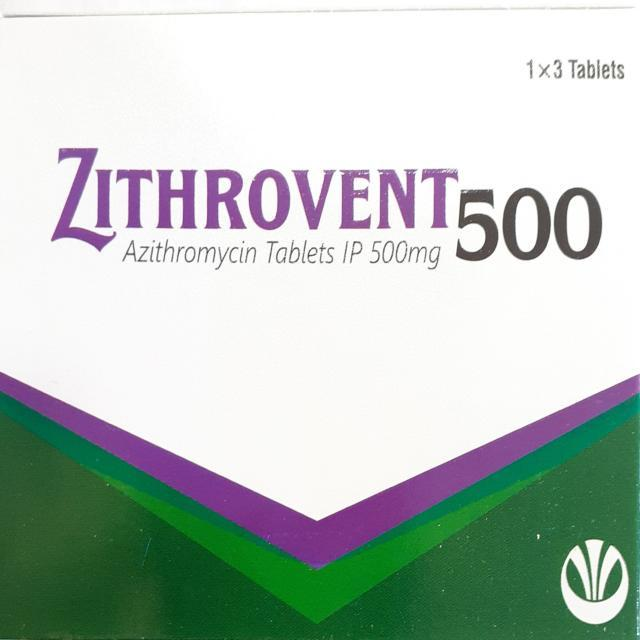drug-name: (35, 142, 603, 263)
